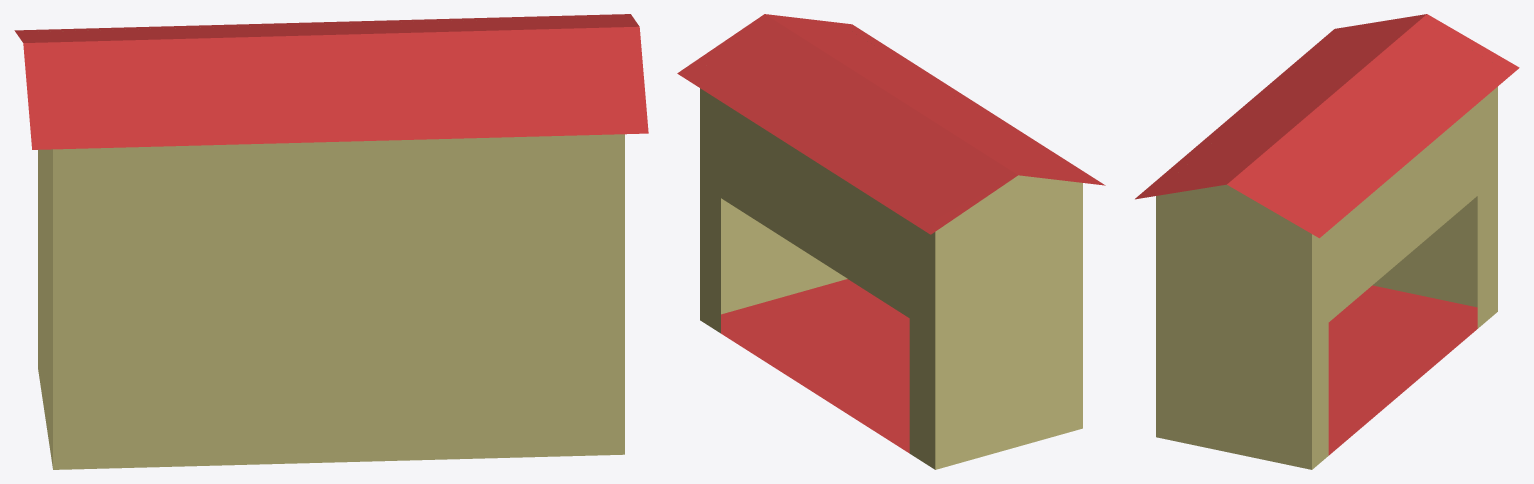
The picture shows the model from 3 angles, left to right: view 1: azimuth 30°, elevation 25°; view 2: azimuth 150°, elevation 25°; view 3: azimuth 270°, elevation 25°; orthographic projection. The views are drawn at different scales.
Visible parts, largest first — view 1: group_5, group_3, group_4; view 2: group_5, group_3, group_6, group_4; view 3: group_5, group_3, group_6, group_4.
Boxes of the visible parts, x1=… form: group_5: x1=38, y1=25, x2=624, y2=469; group_3: x1=23, y1=16, x2=638, y2=149; group_4: x1=14, y1=14, x2=648, y2=149; group_5: x1=700, y1=88, x2=1082, y2=469; group_3: x1=700, y1=15, x2=1105, y2=219; group_6: x1=721, y1=279, x2=909, y2=453; group_4: x1=677, y1=14, x2=1101, y2=234; group_5: x1=1156, y1=86, x2=1497, y2=469; group_3: x1=1156, y1=14, x2=1497, y2=223; group_6: x1=1328, y1=285, x2=1477, y2=455; group_4: x1=1135, y1=14, x2=1519, y2=238.
Bounding box in the file's own units: 22.73 × 17.69 × 13.92.
